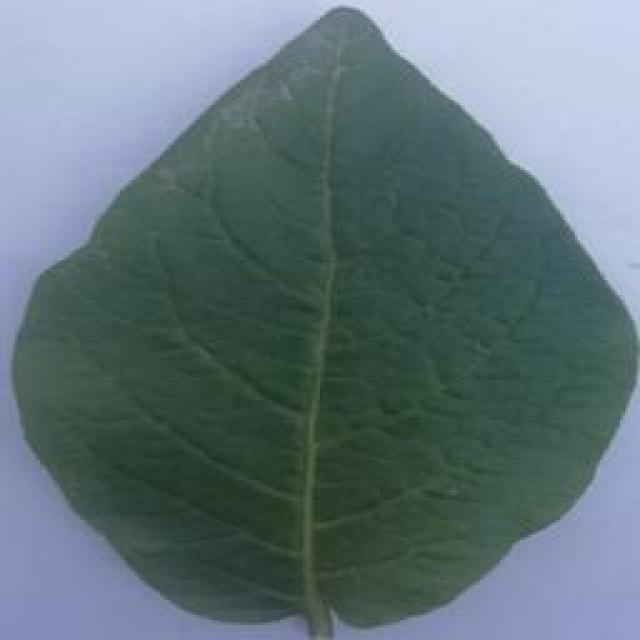Potato_Healthy: (12, 5, 626, 632)
